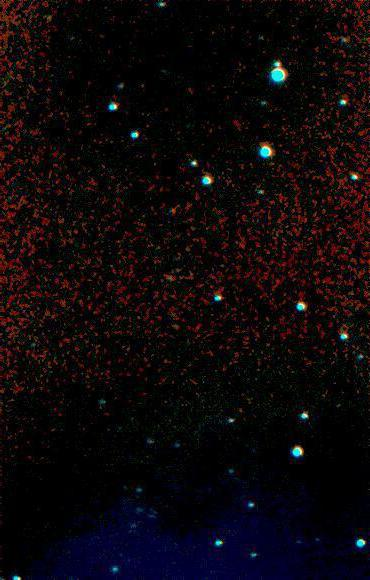star: (158, 532, 188, 562)
